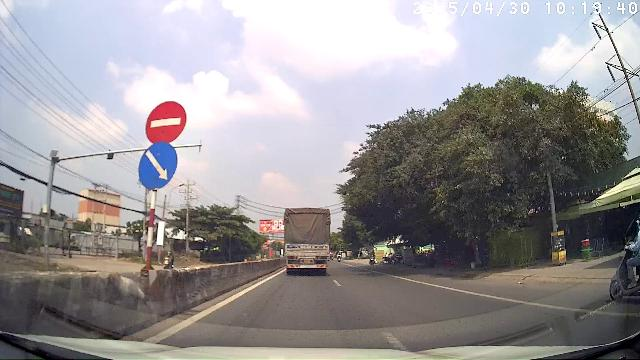102-cam-di-nguoc-chieu: (145, 100, 187, 142)
302a-huong-phai-di-vong-chuong-ngai-vat-1: (138, 142, 178, 190)
